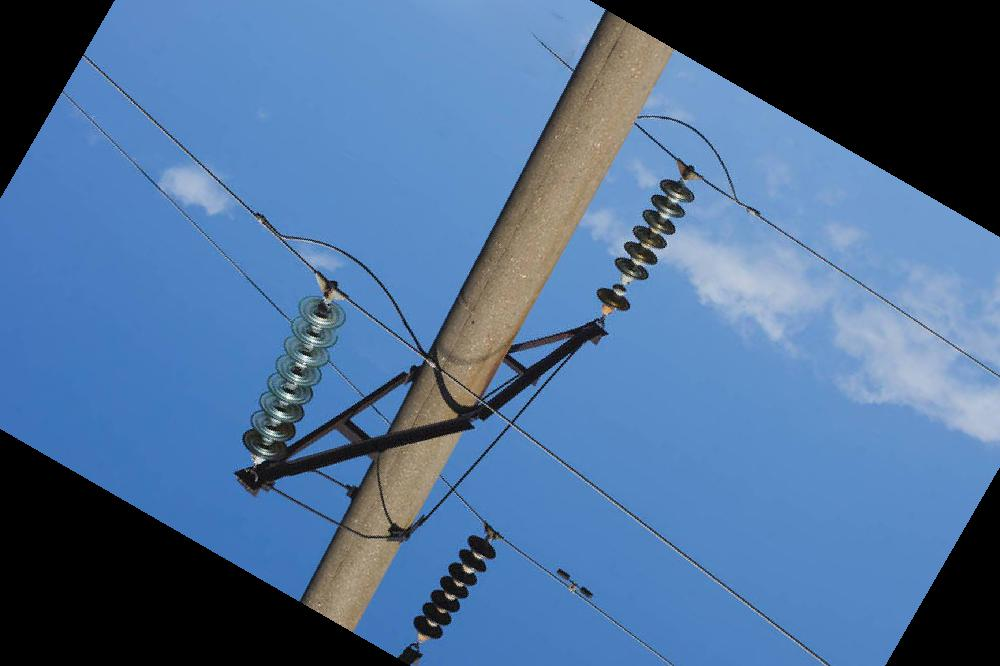insulator: (236, 293, 349, 465), (593, 176, 696, 314), (411, 530, 501, 643)
insulator_stringdrop: (593, 254, 652, 317)
